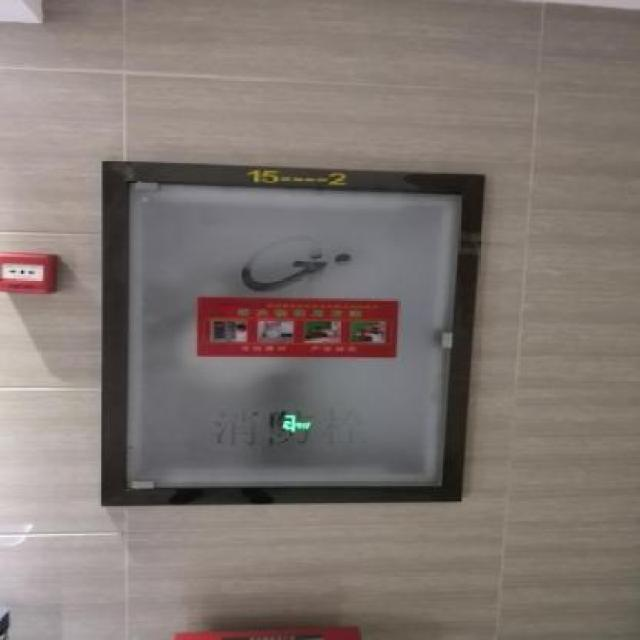firehydrant: (94, 154, 491, 510)
